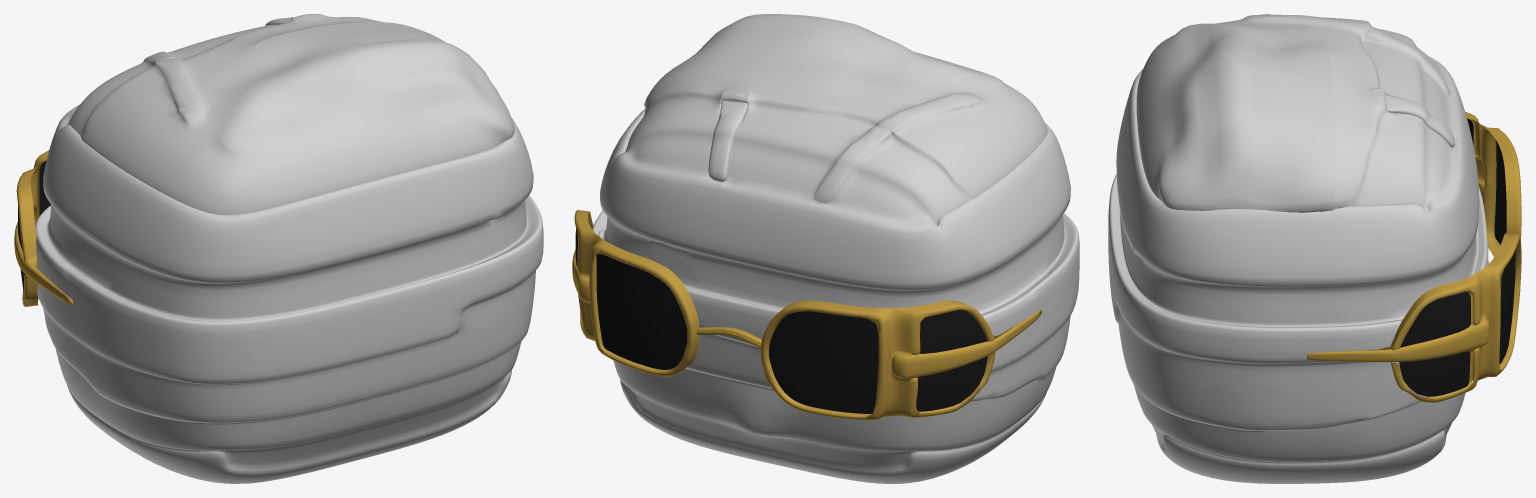
File: InvisibleMan.fbx
The picture shows the model from 3 angles, left to right: view 1: azimuth 30°, elevation 25°; view 2: azimuth 150°, elevation 25°; view 3: azimuth 270°, elevation 25°; orthographic projection. The views are drawn at different scales.
Visible parts, largest first — view 1: Head, Frame; view 2: Head, Glass, Frame; view 3: Head, Frame, Glass.
Part boxes in pixels (bbox=[...]): Head: bbox=[35, 14, 543, 483]; Frame: bbox=[14, 150, 73, 306]; Head: bbox=[592, 14, 1079, 483]; Glass: bbox=[575, 228, 987, 413]; Frame: bbox=[572, 210, 1041, 420]; Head: bbox=[1108, 14, 1488, 483]; Frame: bbox=[1306, 111, 1521, 402]; Glass: bbox=[1399, 118, 1515, 396].
Bounding box in the file's own units: 45.14 × 39.32 × 38.03.
